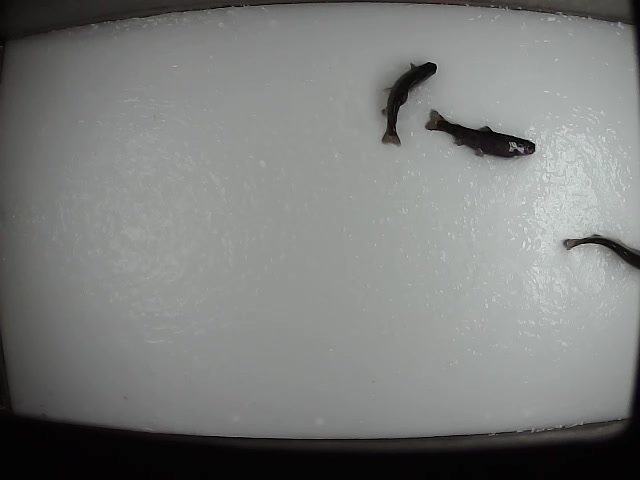Fish: (425, 109, 535, 158), (381, 62, 437, 145)
